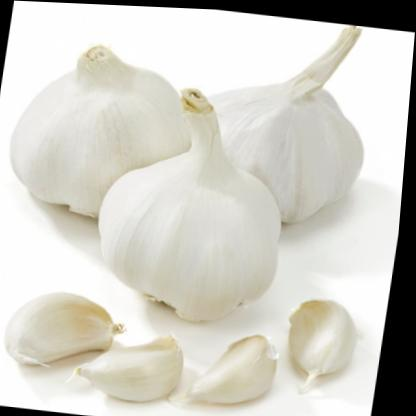--: (0, 0, 404, 353), (0, 281, 138, 384), (271, 285, 388, 396), (66, 318, 198, 416), (179, 318, 305, 416)
